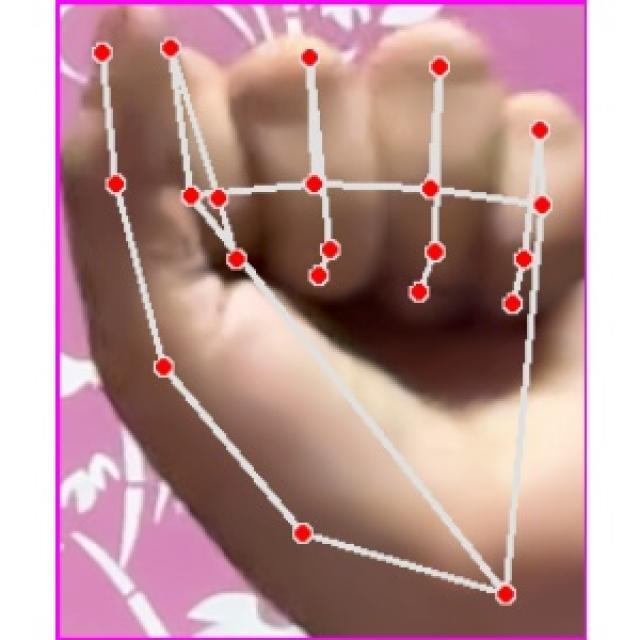A: (63, 4, 582, 634)
